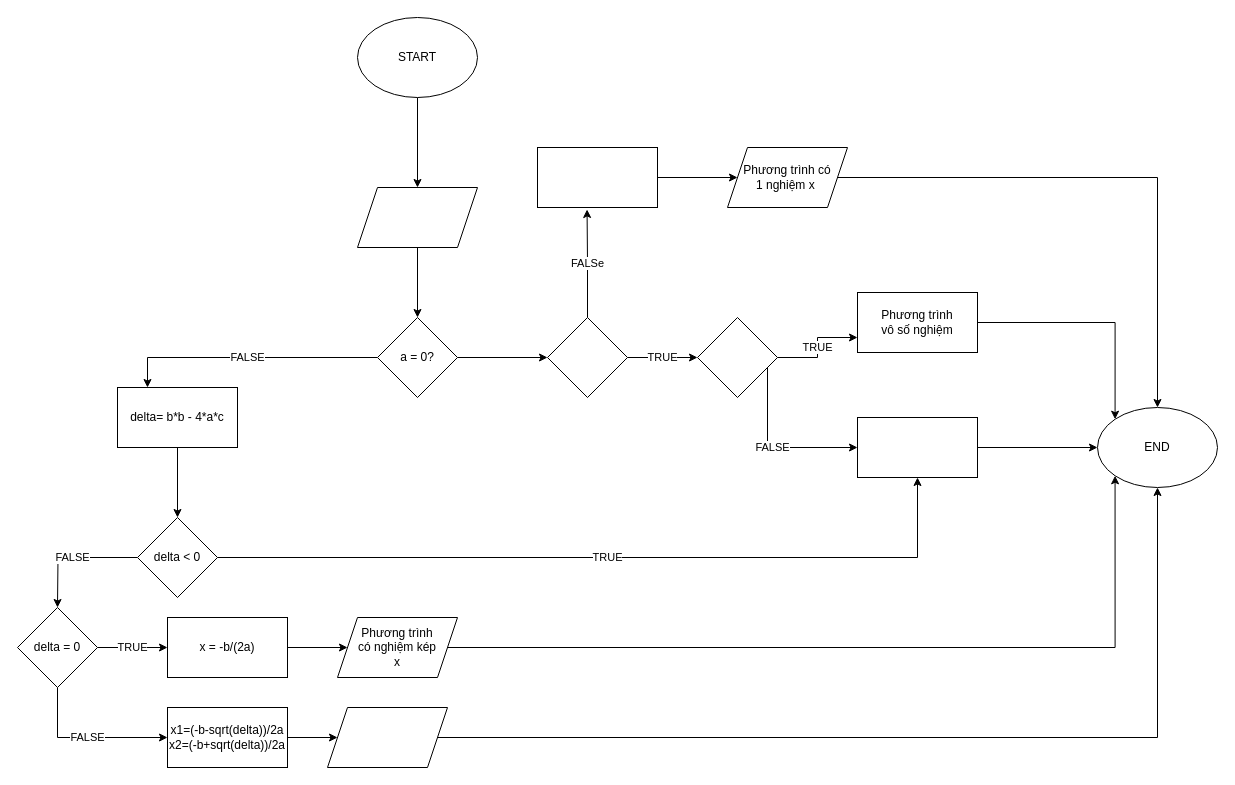
This 1235x785 diagram has some shape labels left out. The shapes that lost their labels are listed below. From the top down, each one's centre as x and y in pixels, then its label:
At (x=597, y=177): "x = -c/b".
At (x=417, y=217): "Nhập a,b,c".
At (x=587, y=357): "b = 0?".
At (x=737, y=357): "c = 0?".
At (x=917, y=447): "Phương trình vô nghiệm".
At (x=387, y=737): "Phương trình có 2 nghiệm x1 x2".
